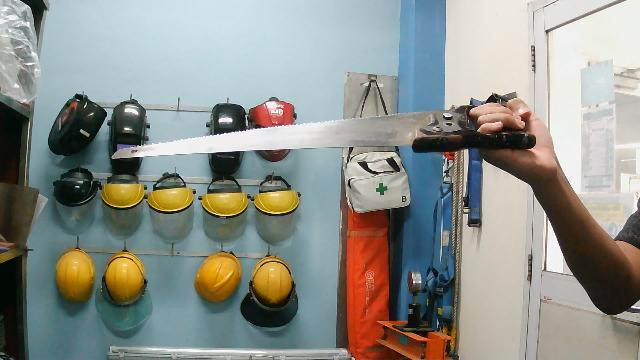gergaji_kayu: (103, 83, 541, 165)
